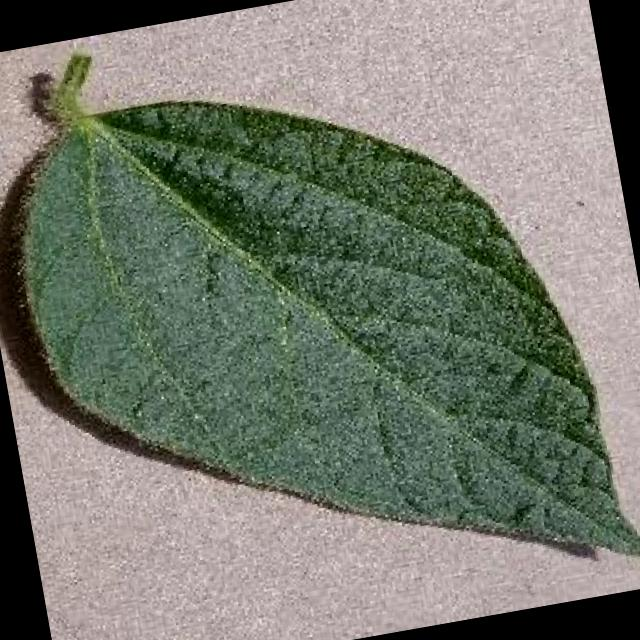healthy: (26, 58, 640, 552)
